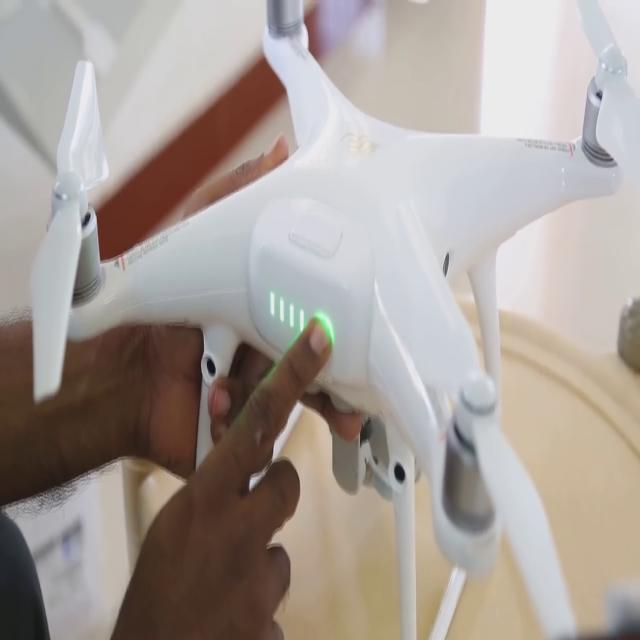drones: (34, 0, 627, 599)
